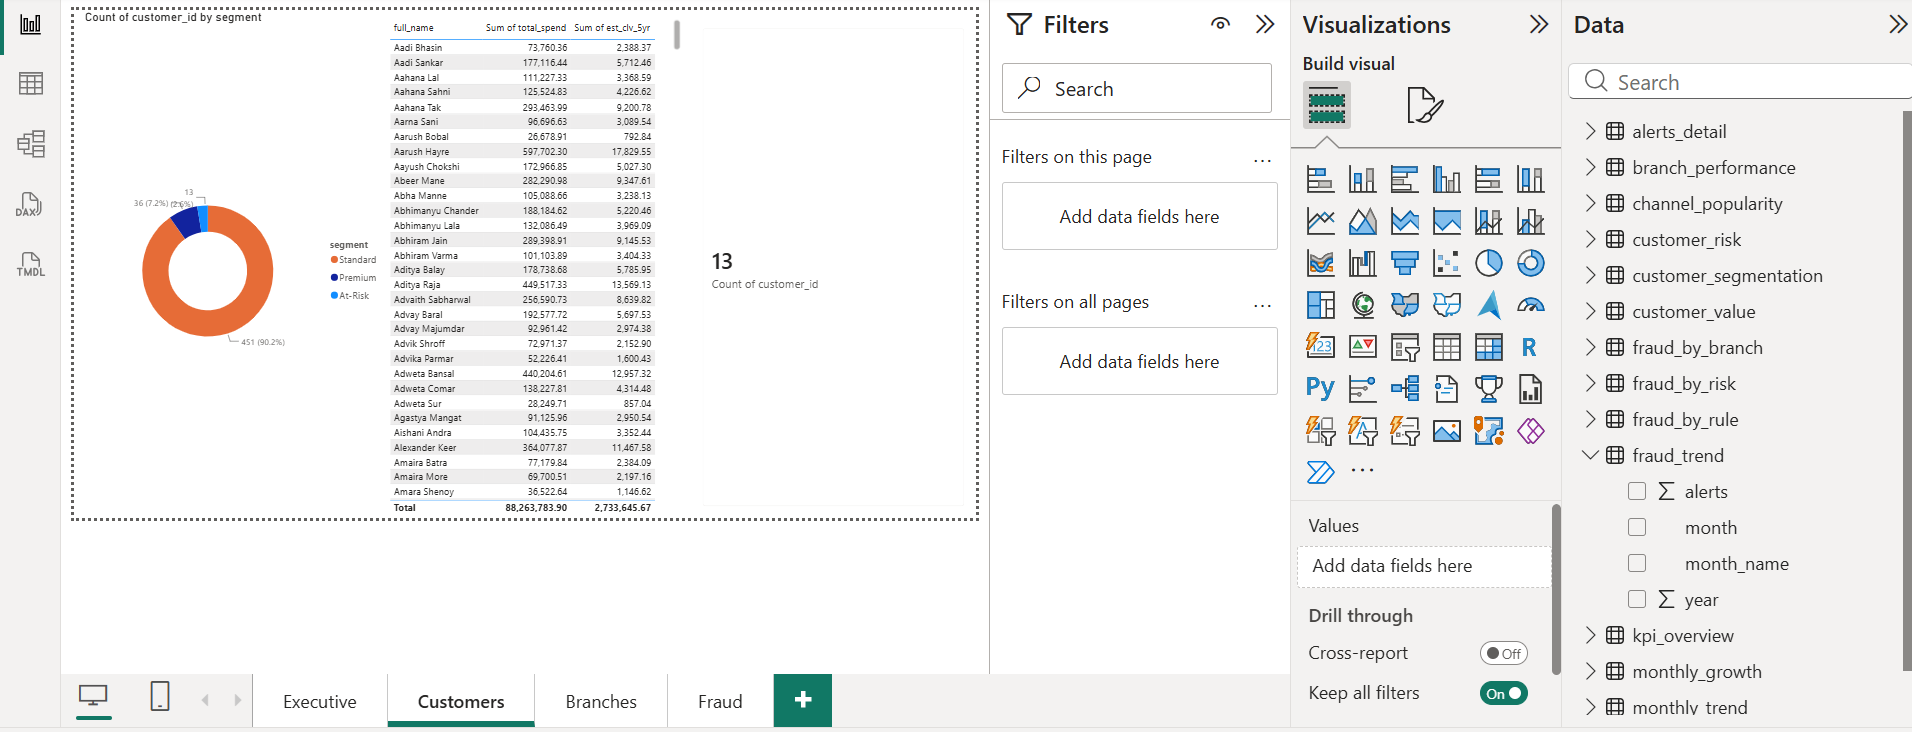

The page's visual inventory and layout, read from the dashboard file:
{"tool":"powerbi","page":{"name":"Customers","canvas":[1280,720],"ordinal":1},"visuals":[{"type":"donutChart","fields":{"Category":["customer_segmentation.segment"],"Y":["CountNonNull(customer_segmentation.customer_id)"]},"box":[10.4,0,432.7,720.4],"z":0},{"type":"tableEx","fields":{"Values":["customer_value.full_name","Sum(customer_value.total_spend)","Sum(customer_value.est_clv_5yr)"]},"box":[443,8.3,422.3,712.1],"z":1000},{"type":"cardVisual","fields":{"Data":["CountNonNull(customer_segmentation.customer_id)"]},"box":[875,8,405,712],"z":2000}]}

Visuals, with their boxes on the page's 1280x720 design canvas (x1, y1, x2, y2). These are canvas units, not pixel positions in the 1912x732 screenshot, which may show the page scaled, cropped or inside an application window:
donutChart - customer_segmentation.segment x CountNonNull(customer_segmentation.customer_id): <region>10, 0, 443, 720</region>
tableEx - customer_value.full_name x Sum(customer_value.total_spend): <region>443, 8, 865, 720</region>
cardVisual - CountNonNull(customer_segmentation.customer_id): <region>875, 8, 1280, 720</region>
